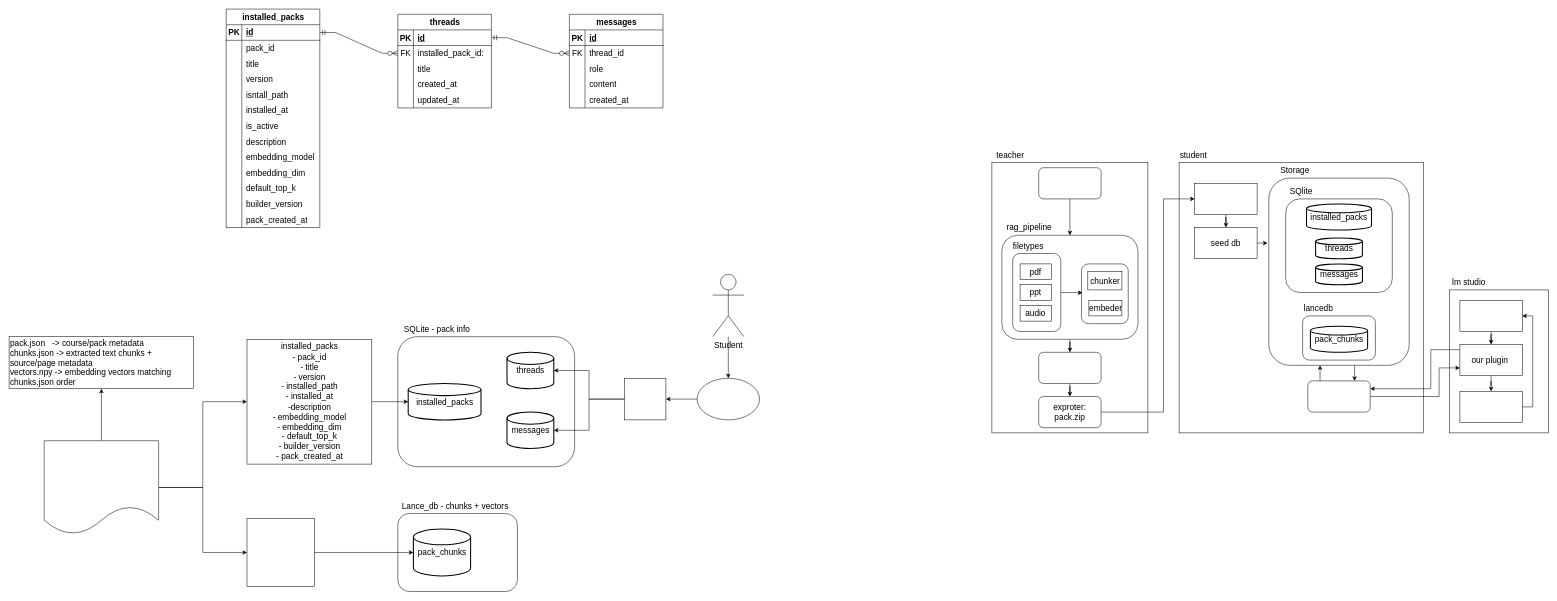
Image size: 1557x601. Some labels were removed from this diagram. The shapes that lost their labels are listed below. From the top down, each one's centre as x and y in pixels, then its label:
At pixel 1069 183: "import course material".
At pixel 1225 198: "import".
At pixel 1490 316: "chat".
At pixel 1069 368: "pack.json chunks.json vectors.npy".
At pixel 645 399: "threads messeges".
At pixel 728 399: "chatting".
At pixel 1338 396: "API_layer".
At pixel 1490 406: "language model".
At pixel 101 487: "pack.zip - pack.json - chunks.json - vectors.npy".
At pixel 280 552: "chunk text + chunk metadata + vector + pack_id".
